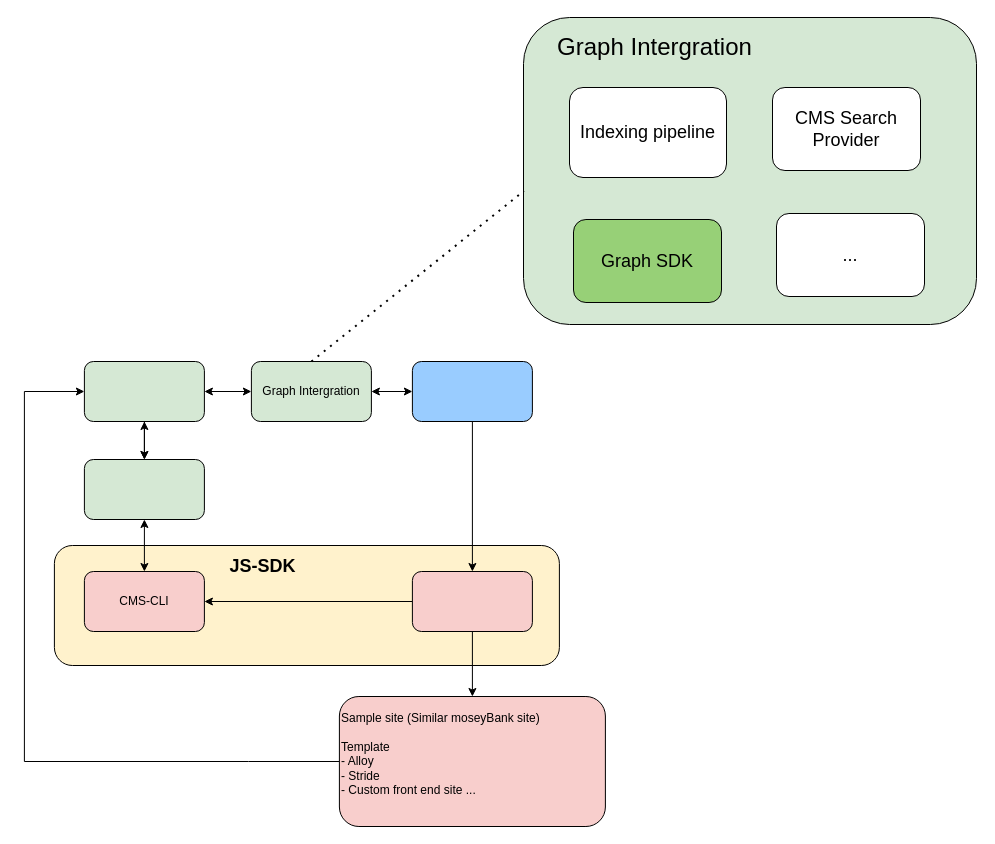
This 995x844 diagram has some shape labels left out. The shapes that lost their labels are listed below. From the top down, each one's centre as x and y in pixels, then its label:
point (143, 391): CMS Site
point (471, 391): Graph Server
point (143, 489): IntergrationAPI
point (471, 601): CMS-SDK
